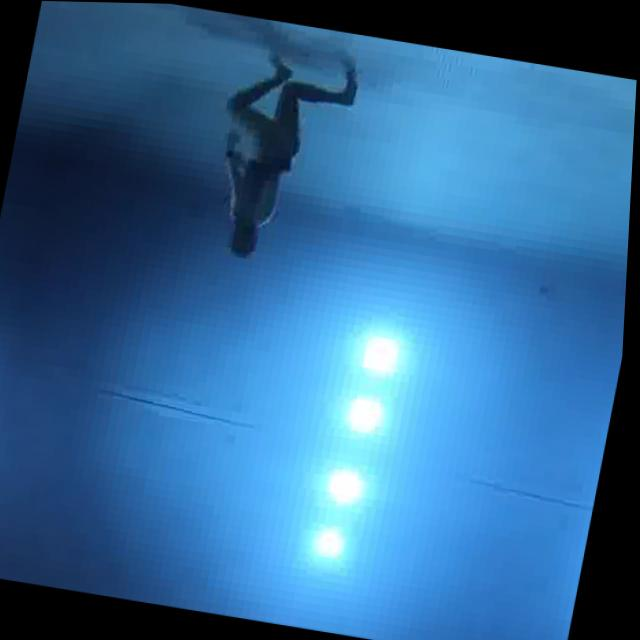human: (184, 32, 377, 286)
